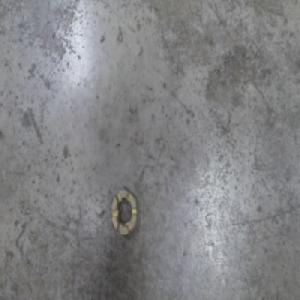Nut: (110, 184, 139, 240)
